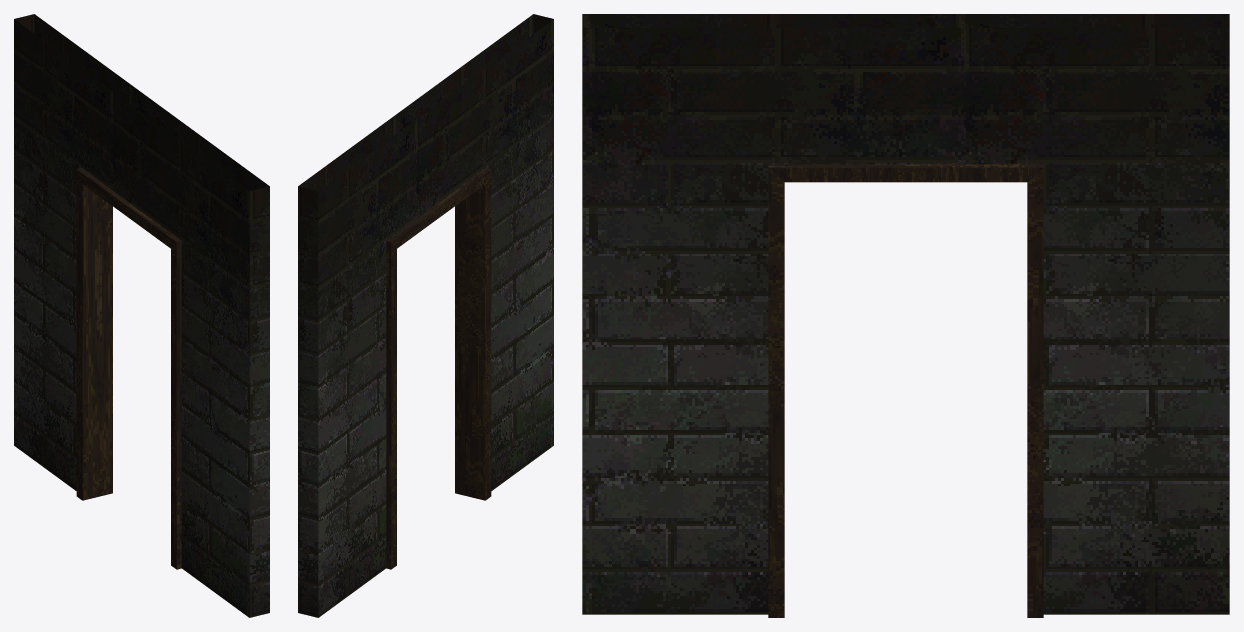
File: WallDoorFrame.glb
The picture shows the model from 3 angles, left to right: view 1: azimuth 30°, elevation 25°; view 2: azimuth 150°, elevation 25°; view 3: azimuth 270°, elevation 25°; orthographic projection. The views are drawn at different scales.
Parts seen in each view (by area): view 1: WallDoorFrame; view 2: WallDoorFrame; view 3: WallDoorFrame.
Part boxes in pixels (x1,y1,x2,y2): WallDoorFrame: [14, 14, 269, 617]; WallDoorFrame: [298, 14, 553, 617]; WallDoorFrame: [582, 14, 1229, 617].
Size of the model in its own units: 0.3001 by 4 by 4.
2 materials, 2 textured.
